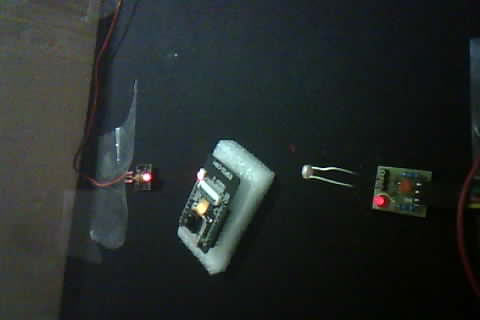esp32: (172, 148, 261, 270)
